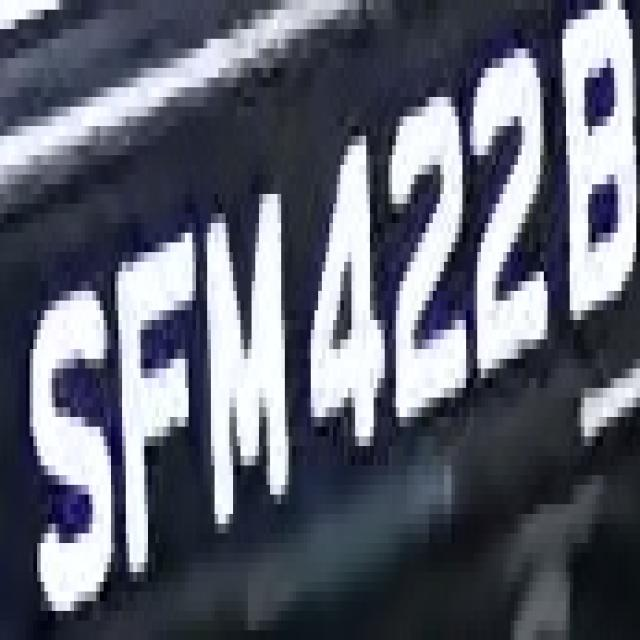2: (370, 68, 481, 436), (462, 20, 552, 398)
4: (303, 107, 385, 466)
B: (555, 9, 640, 330)
F: (104, 213, 196, 582)
M: (192, 165, 307, 533)
S: (26, 223, 118, 611)
